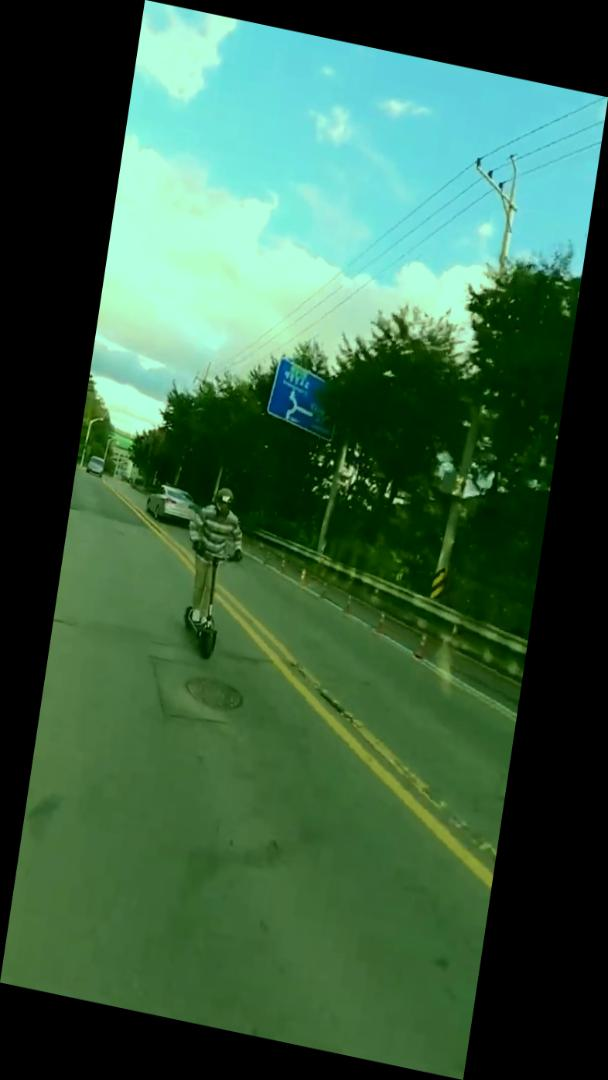helmet: (172, 478, 255, 668)
